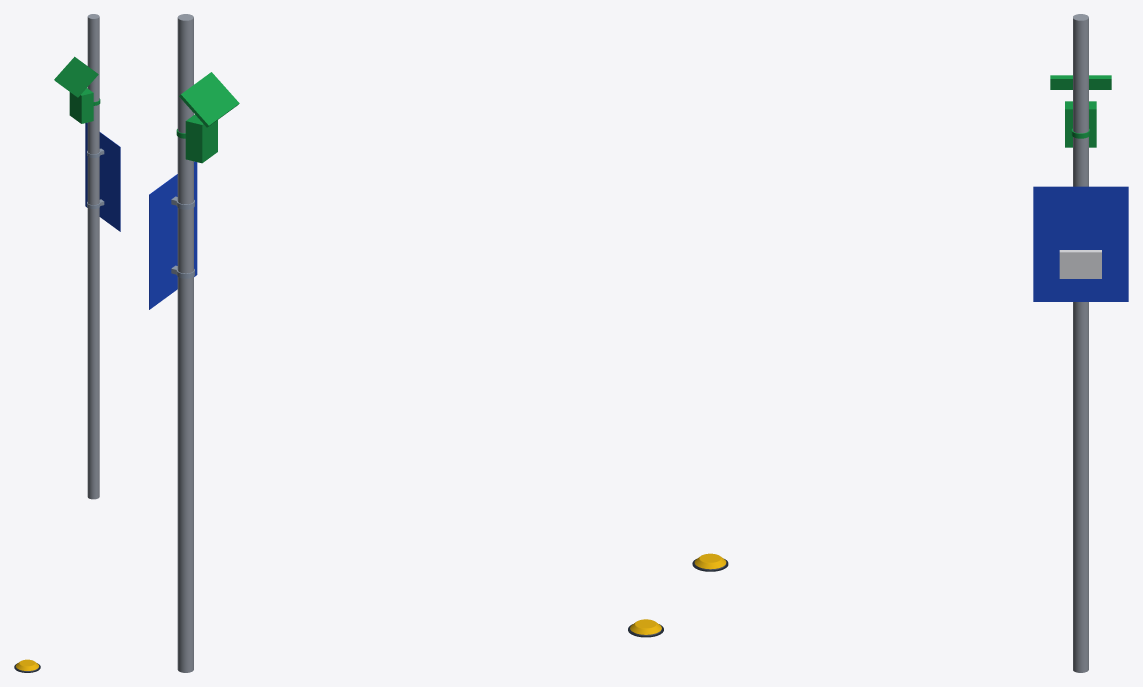
The picture shows the model from 3 angles, left to right: view 1: azimuth 30°, elevation 25°; view 2: azimuth 150°, elevation 25°; view 3: azimuth 270°, elevation 25°; orthographic projection. The views are drawn at different scales.
Parts seen in each view (by area): view 1: Existing street pole (not supplied), Sign face with legend (option), Host FieldNode (option, costed in FieldNode), Puck dome, cast polyurethane; view 2: Existing street pole (not supplied), Sign face with legend (option), Host FieldNode (option, costed in FieldNode); view 3: Sign face with legend (option), Existing street pole (not supplied), Host FieldNode (option, costed in FieldNode), E-paper display in window housing (option).
Part boxes in pixels (bbox=[...]): Existing street pole (not supplied): bbox=[87, 14, 99, 499]; Sign face with legend (option): bbox=[85, 122, 120, 231]; Host FieldNode (option, costed in FieldNode): bbox=[54, 56, 100, 123]; Puck dome, cast polyurethane: bbox=[16, 659, 38, 670]; Existing street pole (not supplied): bbox=[177, 14, 193, 672]; Sign face with legend (option): bbox=[149, 161, 197, 309]; Host FieldNode (option, costed in FieldNode): bbox=[176, 72, 239, 163]; Sign face with legend (option): bbox=[1033, 186, 1128, 301]; Existing street pole (not supplied): bbox=[1073, 14, 1088, 672]; Host FieldNode (option, costed in FieldNode): bbox=[1050, 75, 1111, 147]; E-paper display in window housing (option): bbox=[1059, 250, 1101, 278].
Bounding box in the file's own units: 1.68 × 3.55 × 2.06.
